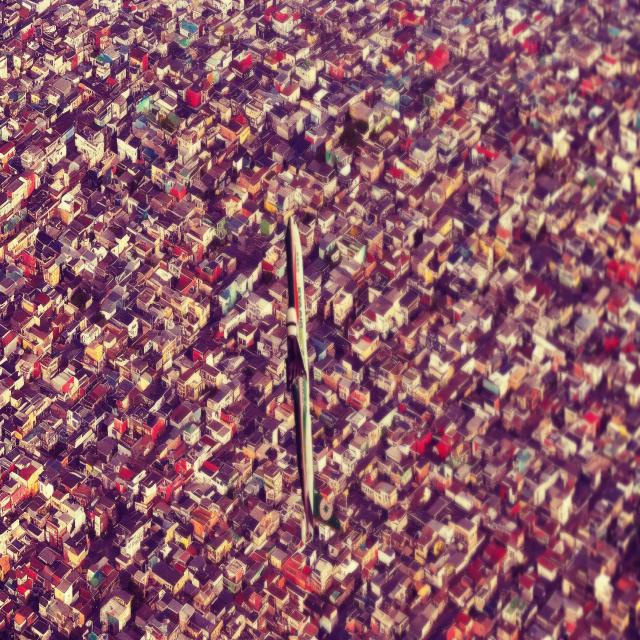airplane: (283, 213, 316, 544)
